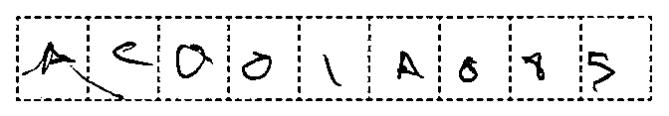0: (172, 37, 216, 85), (238, 46, 276, 86), (453, 50, 483, 88)
1: (310, 46, 356, 94)
5: (584, 47, 624, 92)
8: (516, 47, 551, 84)
A: (35, 38, 77, 80), (391, 44, 430, 88)
C: (107, 34, 156, 72)
